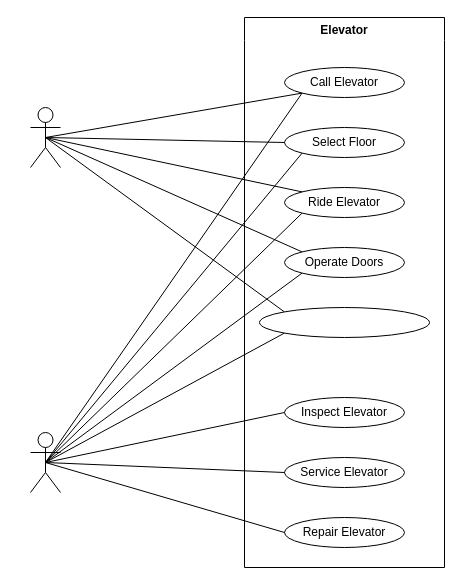
Some shapes in this 462 by 585 pixel diagram are drawn without their labels. The centre of each missing label's shape, as x and y in pixels:
"Technician" belongs at pixel 45 462.
"Trigger Emergence Alarm" belongs at pixel 344 322.
"User" belongs at pixel 45 137.
